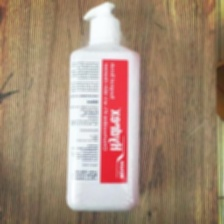cleaning_solution: (63, 1, 142, 214)
